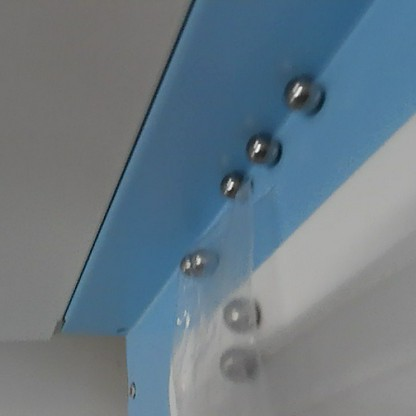ironball: (279, 71, 325, 115), (240, 126, 283, 168), (218, 293, 262, 334), (216, 345, 259, 384), (217, 167, 258, 205), (192, 246, 223, 277), (174, 250, 196, 276)
